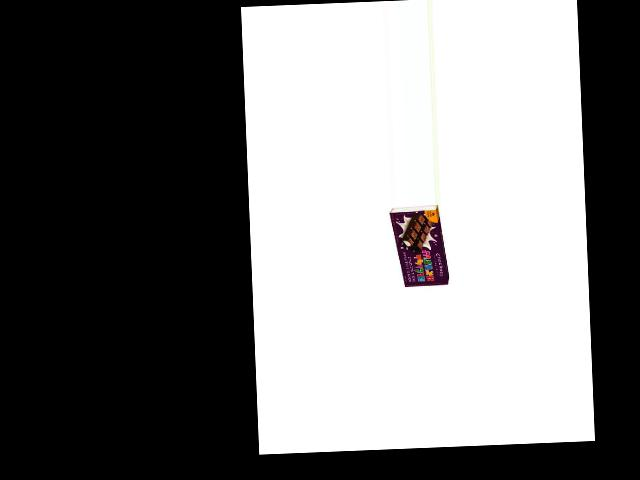chocolate: (393, 203, 449, 293)
